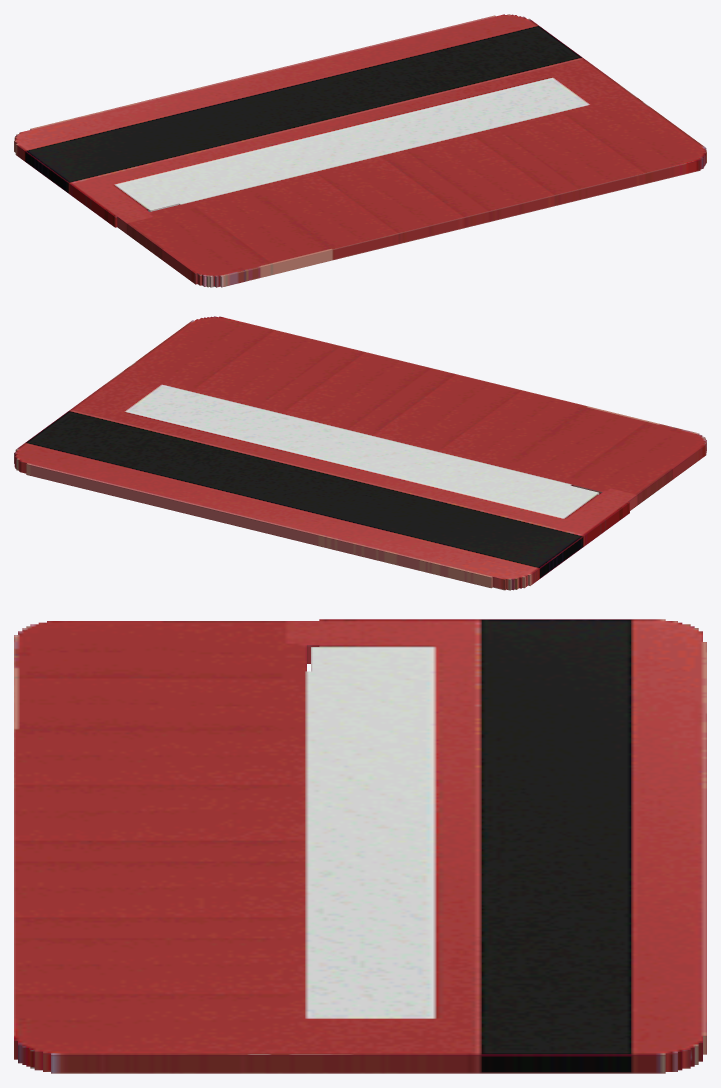
Rendered from redcardvox.fbx.
The picture shows the model from 3 angles, top to bottom: view 1: azimuth 30°, elevation 25°; view 2: azimuth 150°, elevation 25°; view 3: azimuth 270°, elevation 25°; orthographic projection. The views are drawn at different scales.
Parts seen in each view (by area): view 1: redcardvox.001; view 2: redcardvox.001; view 3: redcardvox.001.
Boxes of the visible parts, x1=… form: redcardvox.001: x1=14, y1=14, x2=706, y2=287; redcardvox.001: x1=14, y1=316, x2=706, y2=590; redcardvox.001: x1=14, y1=619, x2=706, y2=1073.
Size of the model in its own units: 25 by 0.5 by 16.8.
Materials: 1 (1 with a texture image).
